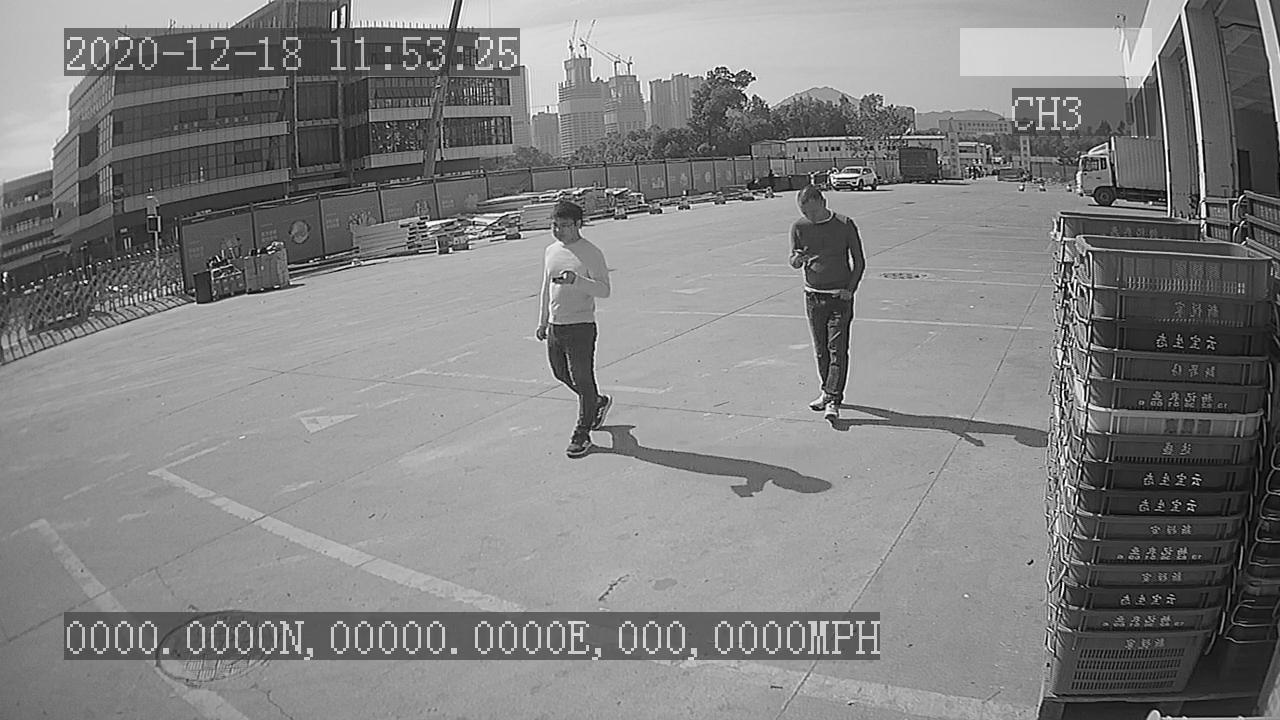person: (527, 197, 624, 467), (777, 177, 870, 429)
